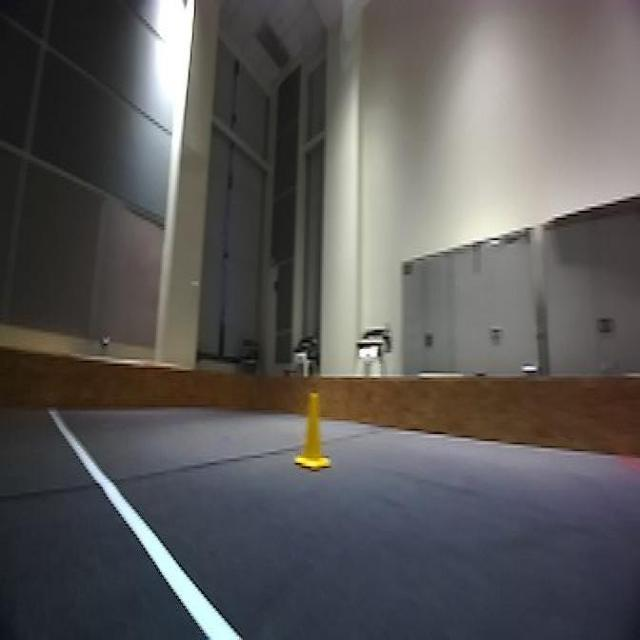frc_cone: (296, 388, 340, 478)
